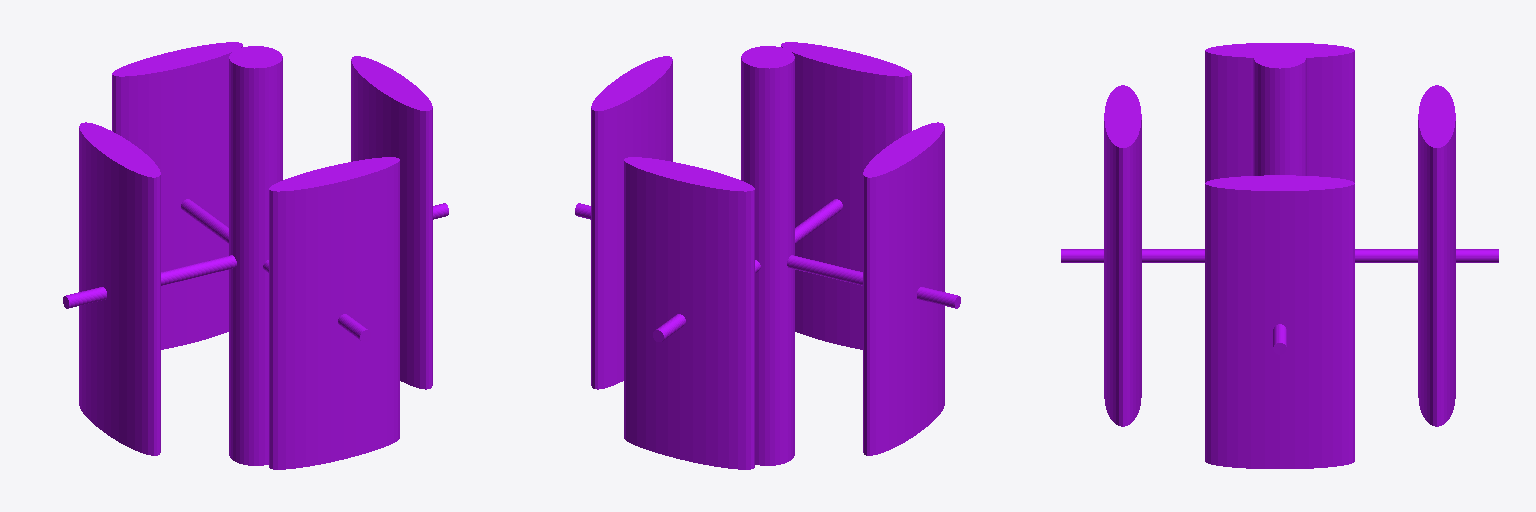
3 renders of one model, left to right at view 1: azimuth 30°, elevation 25°; view 2: azimuth 150°, elevation 25°; view 3: azimuth 270°, elevation 25°, orthographic.
Parts seen in each view (by area): view 1: 円柱.005; view 2: 円柱.005; view 3: 円柱.005.
Boxes of the visible parts, box(x1,y1,x2,y2) form: 円柱.005: box(63, 42, 448, 469); 円柱.005: box(575, 42, 960, 469); 円柱.005: box(1061, 43, 1498, 468).
Bounding box in the file's own units: 1.96 × 1.96 × 1.96.
Materials: 1 (1 with a texture image).